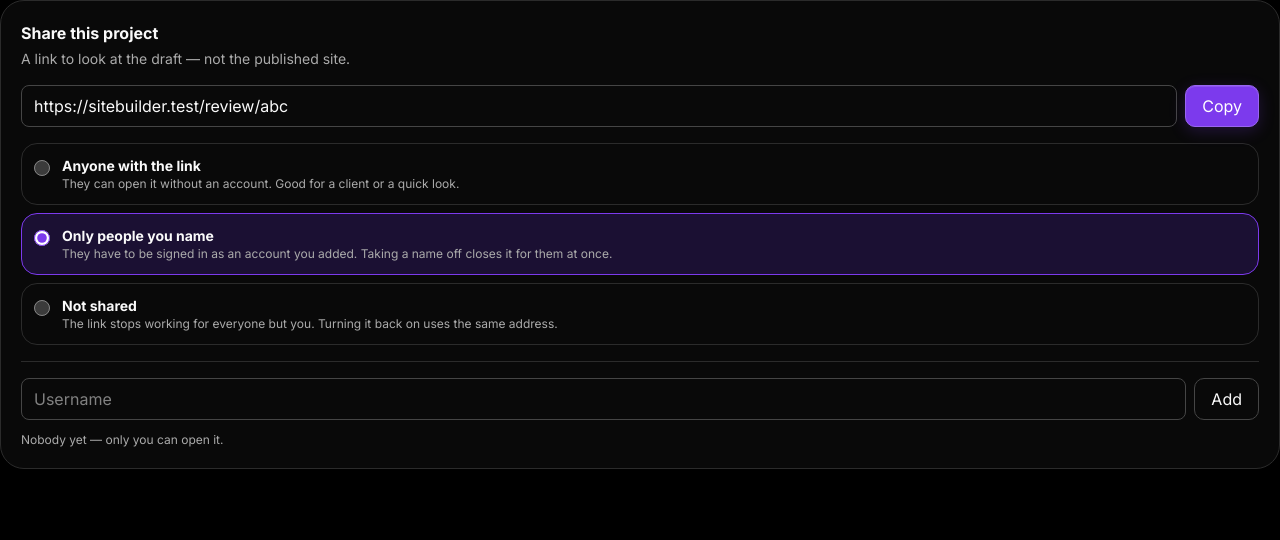
it: the owner choosing who gets in › says what the server said when the change did not go through
This screenshot has width=1280, height=540.
Step 1. Type "nobody" into the field named "Add someone by username" → (604, 399), box 21,378 -> 1186,420
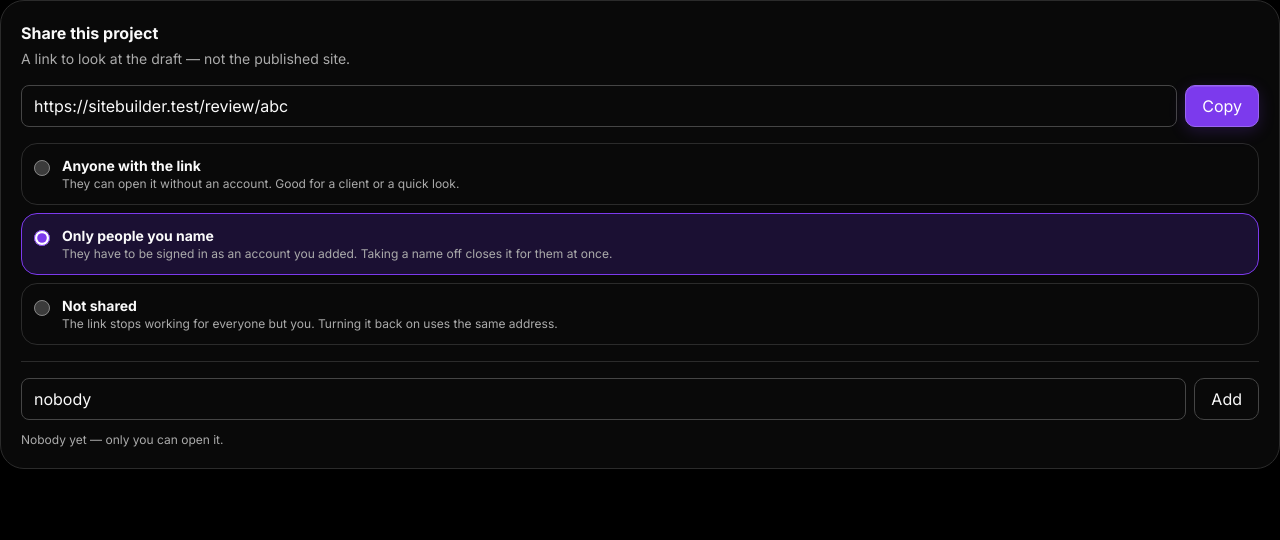
Step 2. Click the button "Add" → (1227, 399), box 1194,378 -> 1259,420
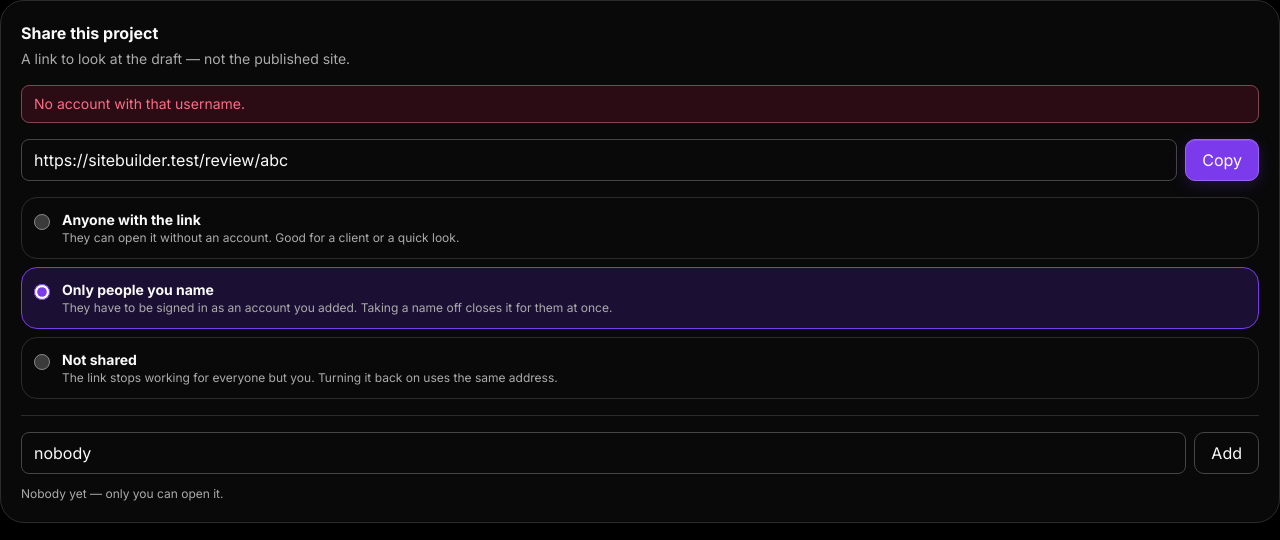
Now the message reads "No account with that username.", box 34,95 -> 245,112
